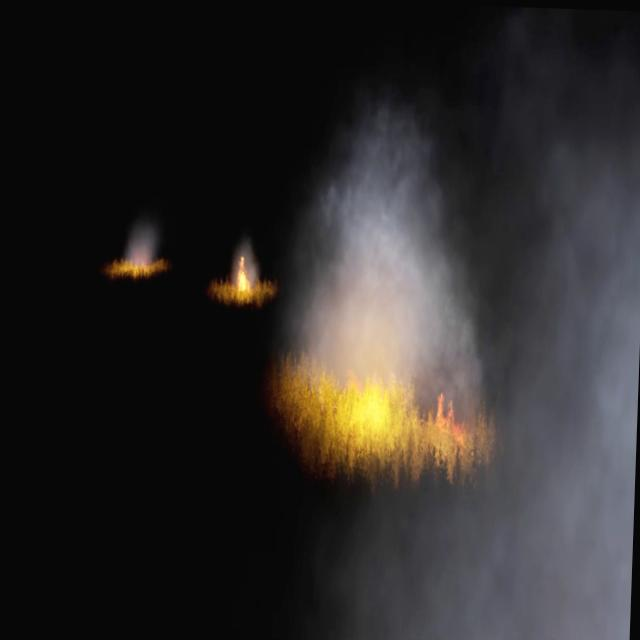fire: (281, 346, 498, 475), (236, 253, 248, 289)
smoke: (267, 81, 640, 640), (226, 239, 264, 288), (124, 224, 158, 264)
